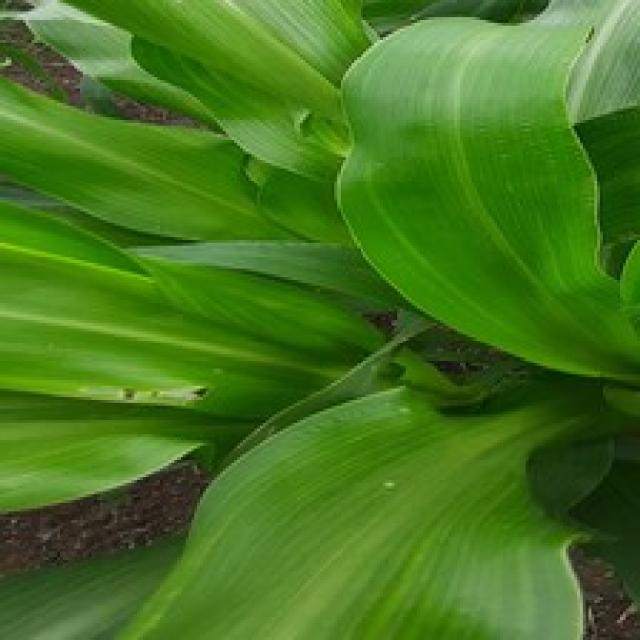Corn: (0, 0, 637, 637), (332, 8, 637, 386)
